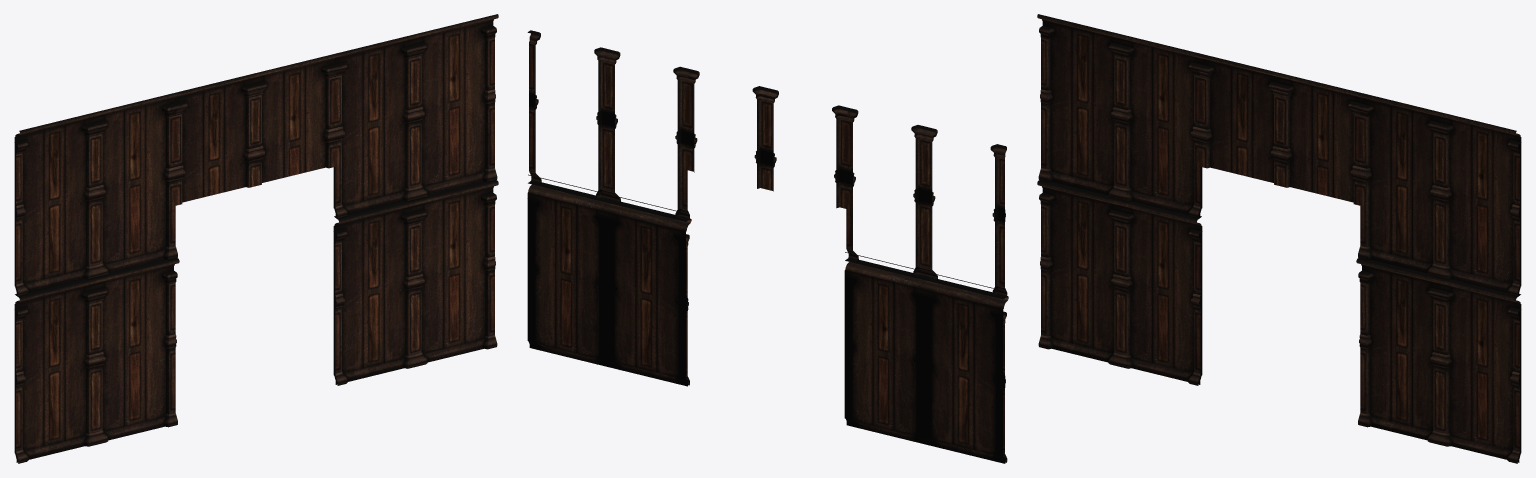
Rendered from default02_frontdoor.DAE.
3 views of the same model, side by side, from view 1: azimuth 30°, elevation 25°; view 2: azimuth 150°, elevation 25°; view 3: azimuth 330°, elevation 25° (orthographic).
Parts seen in each view (by area): view 1: default027; view 2: default027; view 3: default027.
Boxes of the visible parts, <box> form: default027: <box>14,14,498,463</box>; default027: <box>527,30,1008,463</box>; default027: <box>1037,14,1521,463</box>.
Size of the model in its own units: 12 by 8 by 0.2475.
